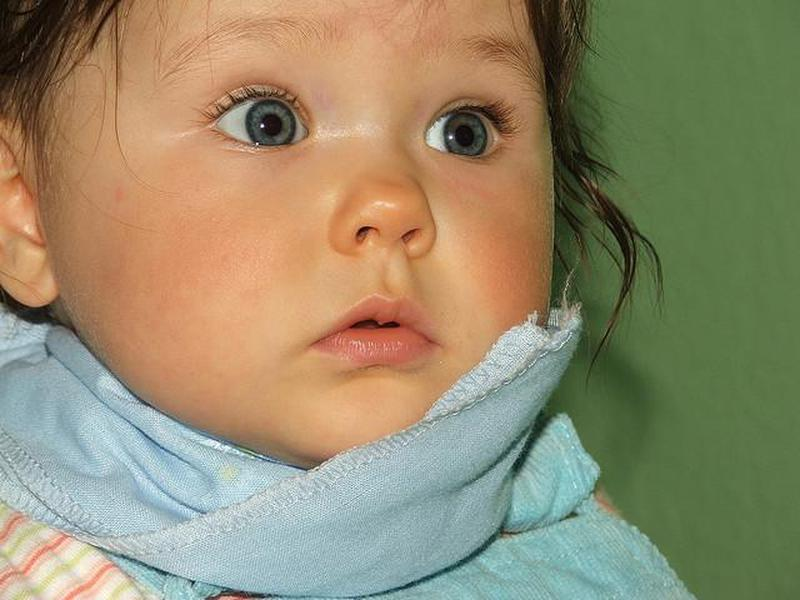person: (1, 1, 702, 597)
